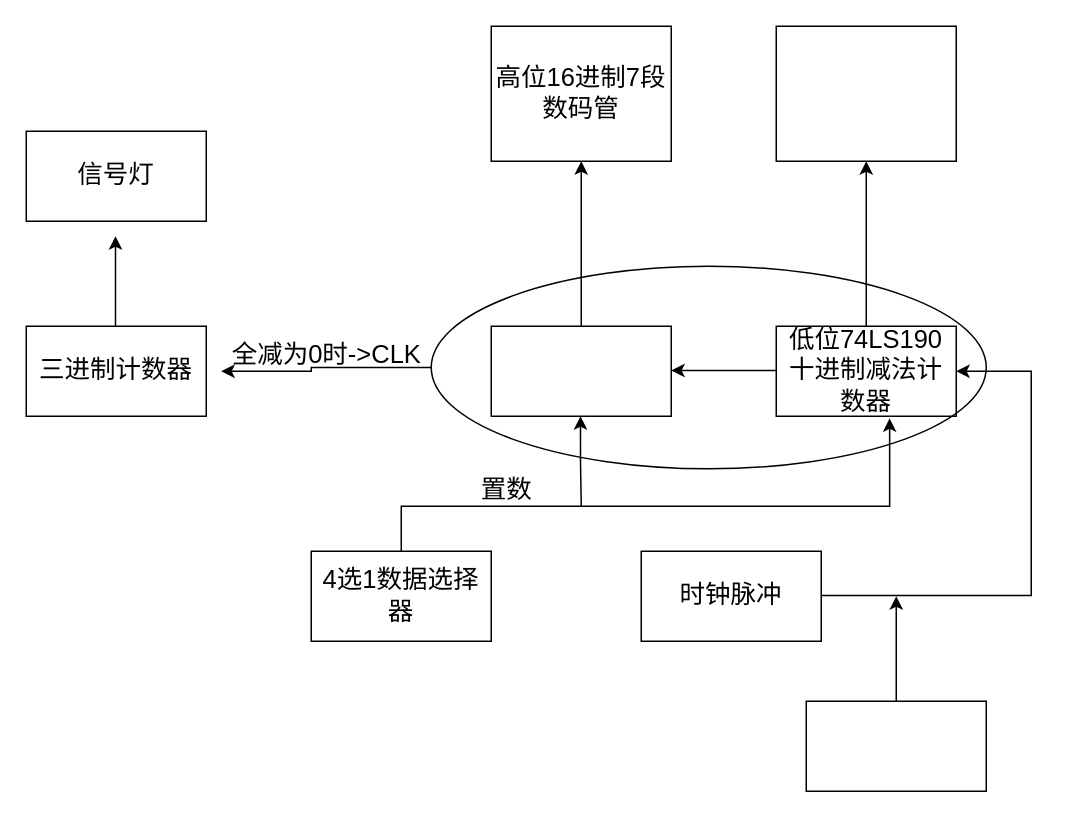
The diagram is 1070 pixels wide and 818 high, and some of its shapes have lost their labels. The centre of each missing label's shape, as x and y in pixels:
三态门: pixel 895 745
低位16进制7段数码管: pixel 865 93
高位74LS190十进制减法计数器: pixel 580 370
